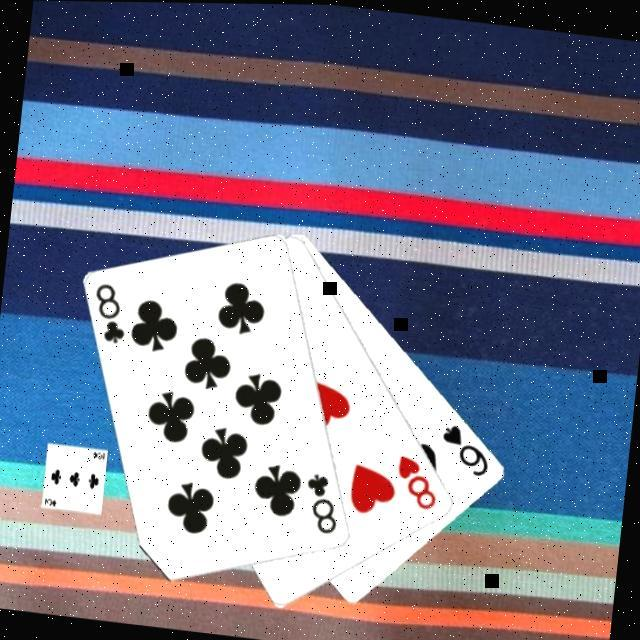6S: (433, 419, 494, 481)
8C: (296, 469, 343, 539), (85, 280, 130, 350)
8H: (388, 450, 442, 514)
